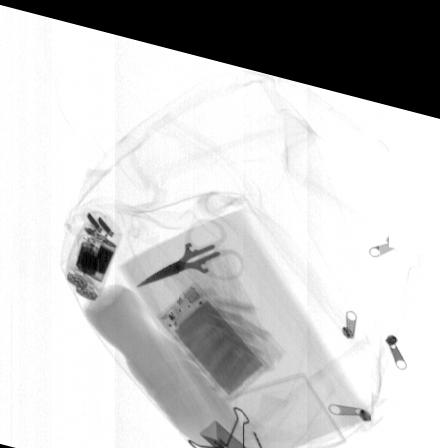Powerbank: (155, 267, 276, 392)
Scissors: (132, 204, 246, 281)
